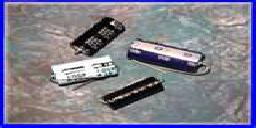Electrolytic-Capacitor: (128, 38, 215, 77), (96, 76, 169, 114), (65, 15, 129, 57), (45, 53, 123, 86)
